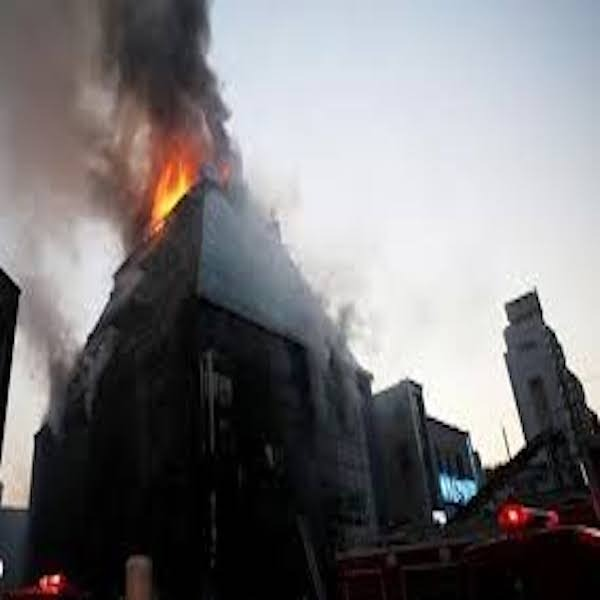fire: (139, 122, 187, 218)
